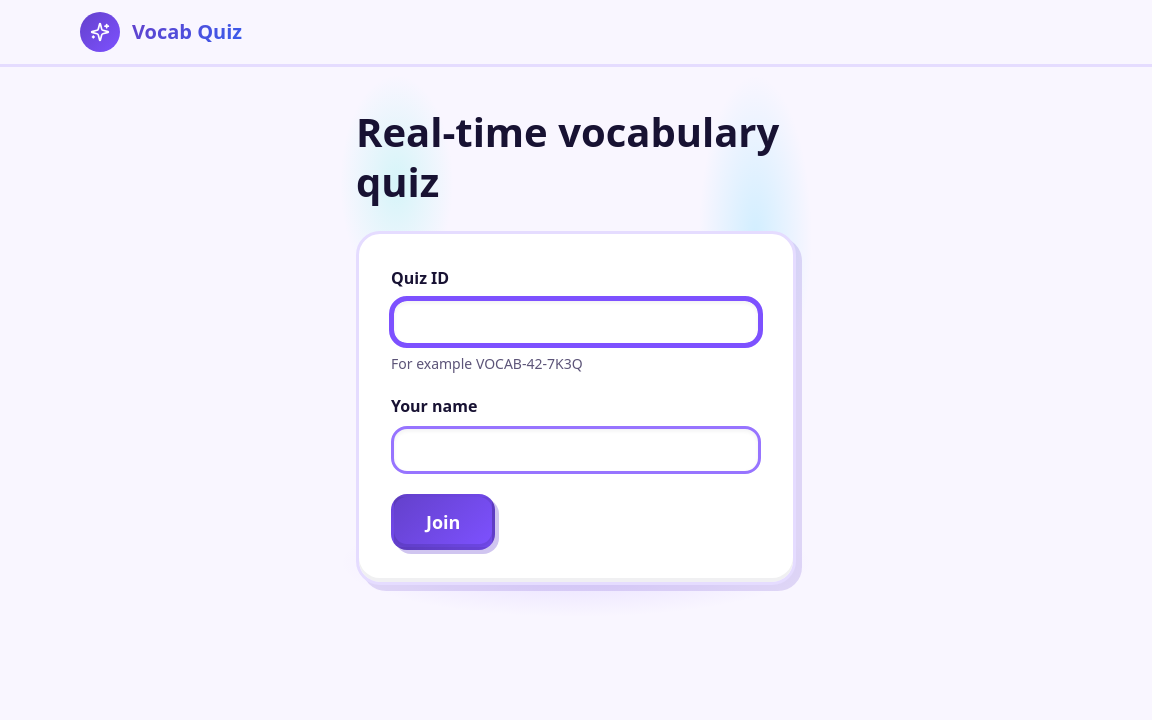
the quiz preview inside the join card casts no shadow of its own, so shadows never stack
Type "VOCAB-42" into the field labelled "Quiz ID". click: [576, 322]
box: [391,298,761,346]
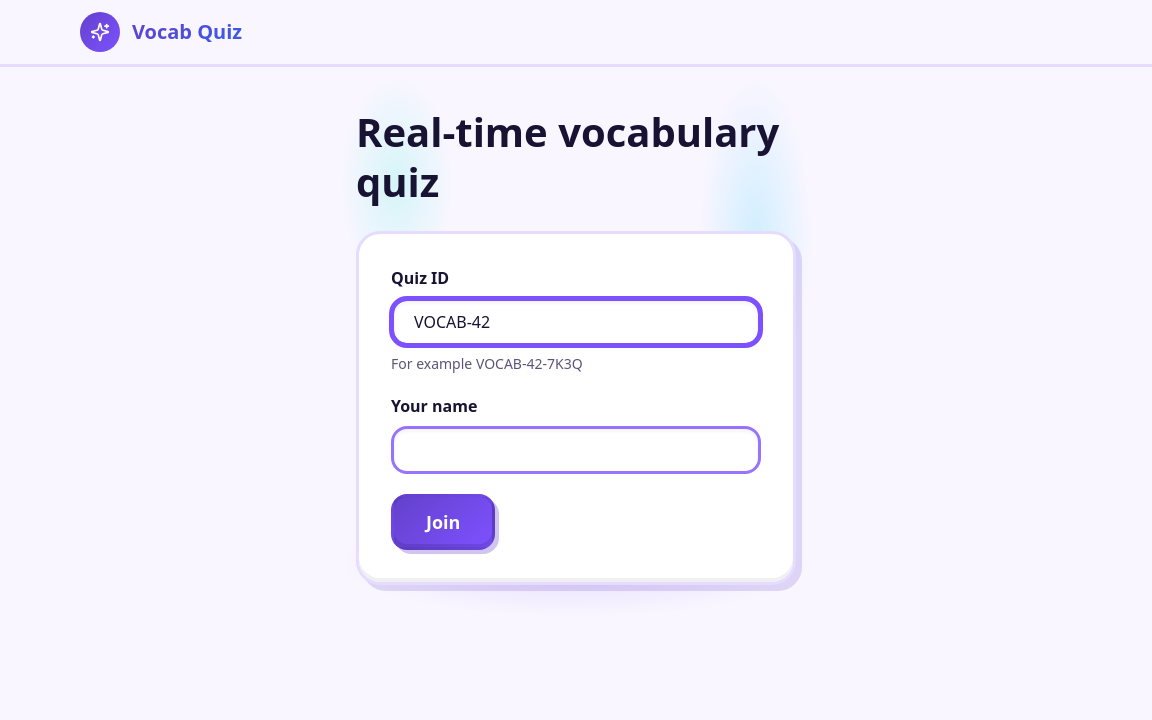
Leave the field labelled "Quiz ID", box [391,298,761,346]
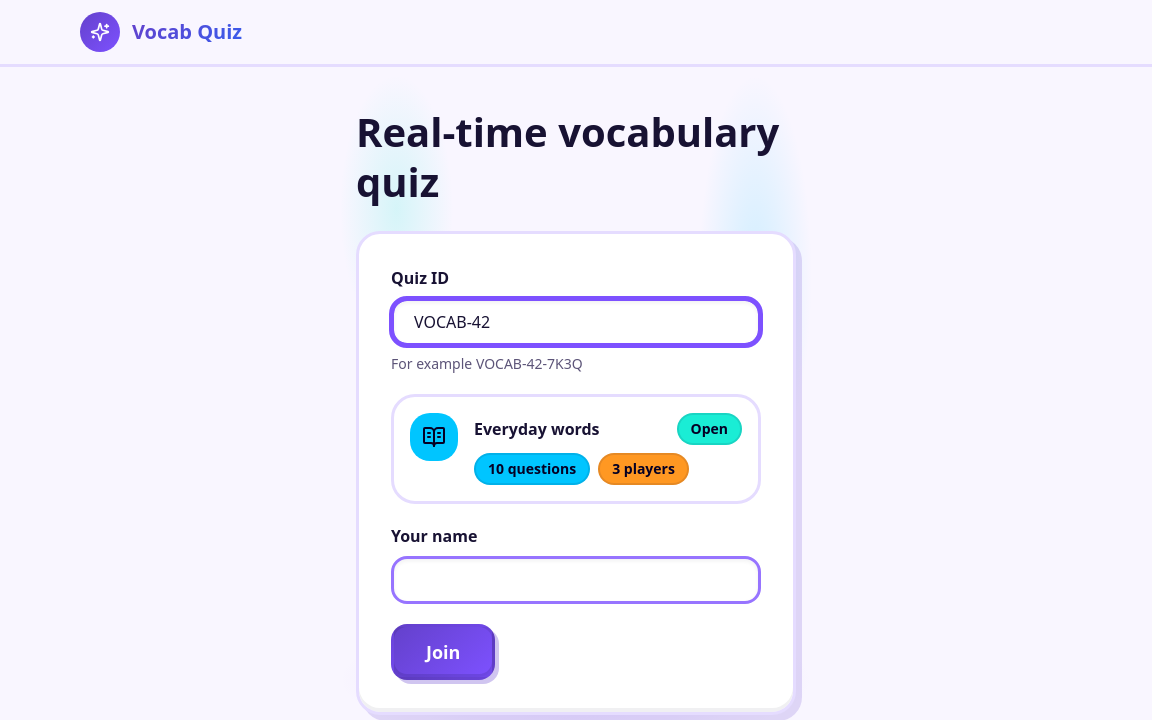
Expected: the element that starts with "Quiz ID" shows "Everyday words", [474,418,600,440]
